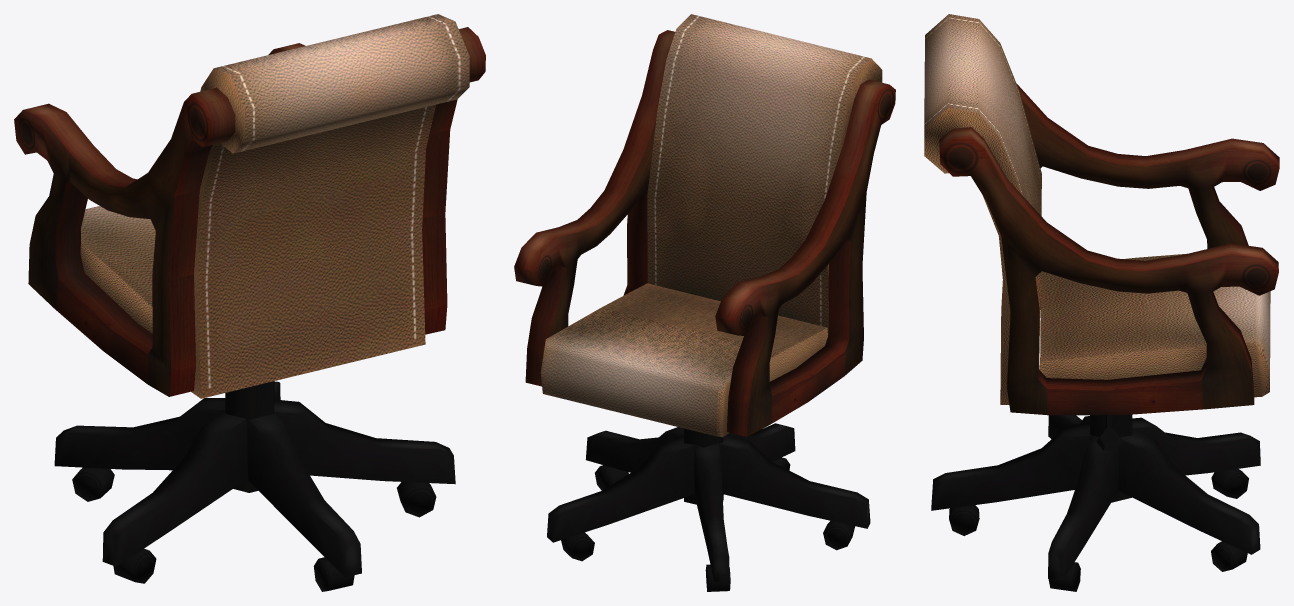
File: Chair.FBX
3 views of the same model, side by side, from view 1: azimuth 30°, elevation 25°; view 2: azimuth 150°, elevation 25°; view 3: azimuth 270°, elevation 25° (orthographic). The views are drawn at different scales.
Visible parts, largest first — view 1: Chair; view 2: Chair; view 3: Chair.
Boxes of the visible parts, bbox=[...] form: Chair: bbox=[14, 14, 485, 591]; Chair: bbox=[514, 14, 895, 591]; Chair: bbox=[924, 14, 1279, 591].
Bounding box in the file's own units: 48.69 × 72.9 × 49.98.
